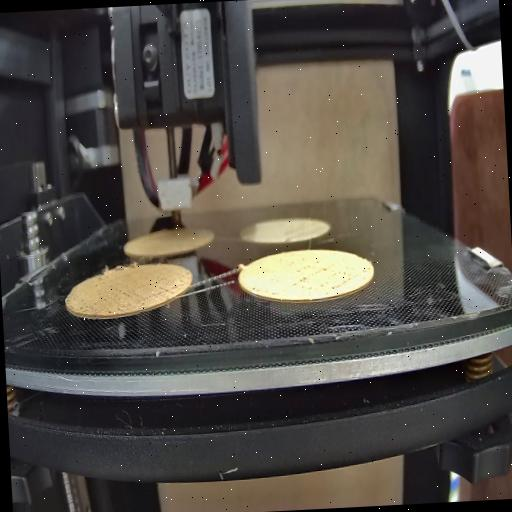under_extrusion: (291, 252, 354, 294), (79, 276, 132, 320), (152, 278, 184, 298), (251, 284, 276, 296)
